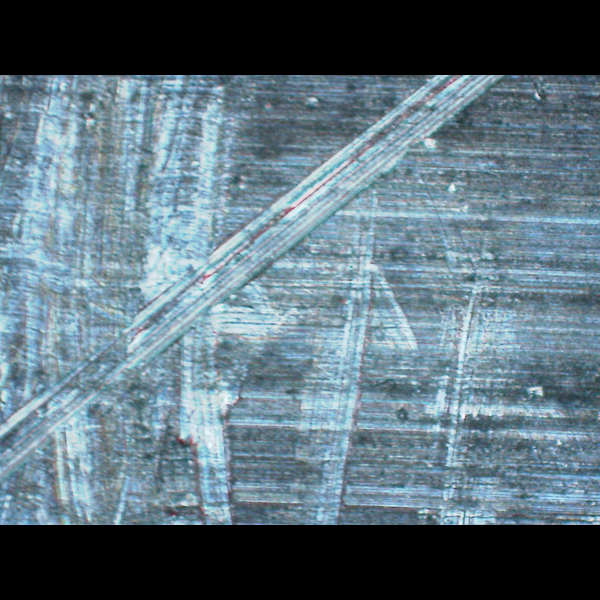d: (1, 75, 237, 522), (288, 214, 545, 521), (266, 75, 518, 241)
